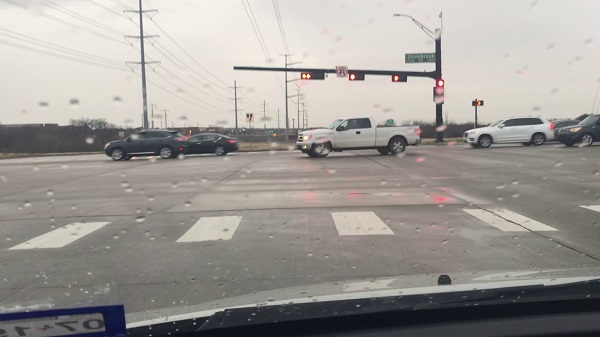car: (465, 117, 554, 147), (104, 128, 188, 159), (185, 131, 238, 155), (558, 115, 598, 146)
truck: (297, 118, 420, 158)
